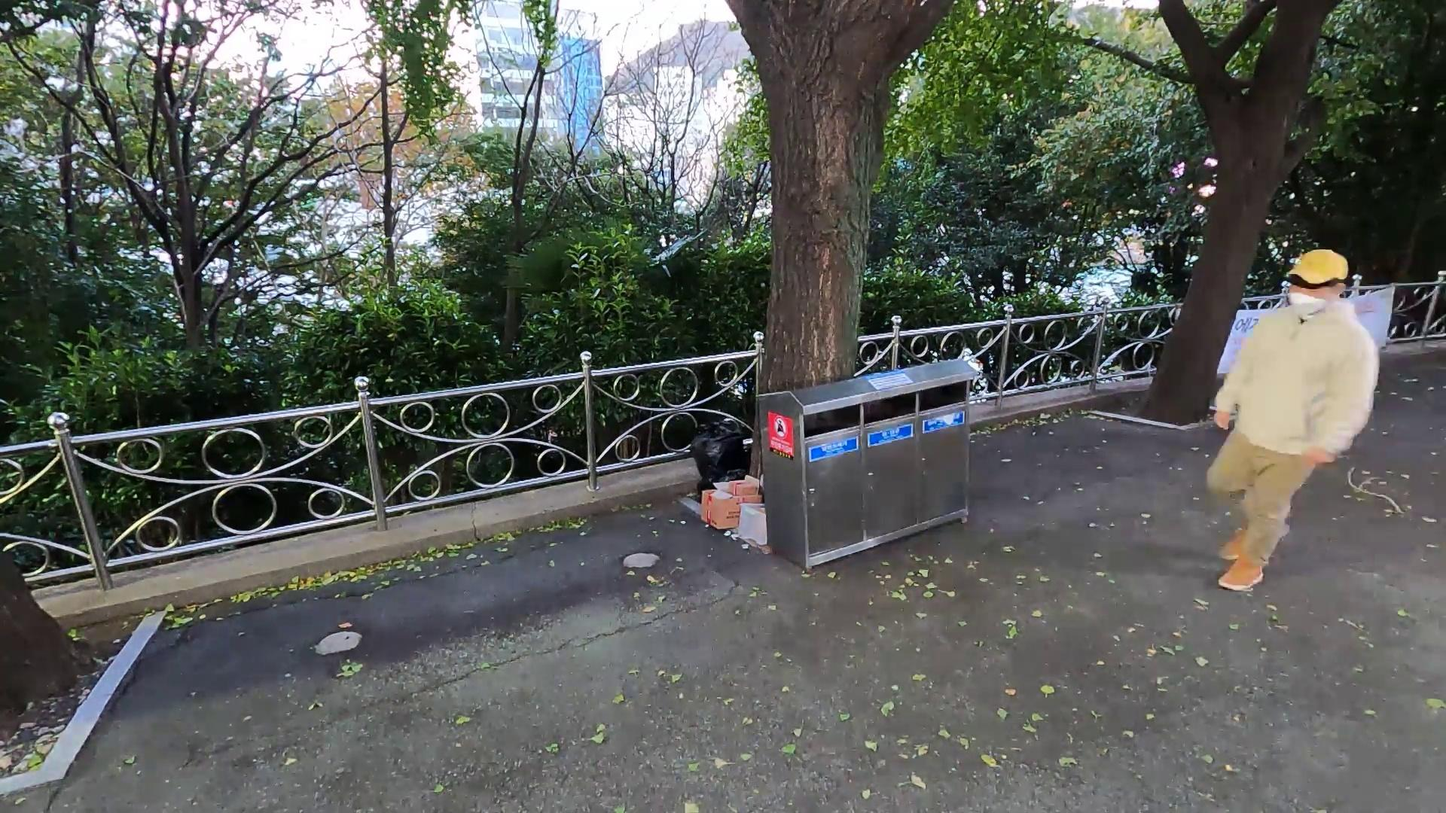person: (1198, 243, 1383, 602)
trash: (686, 419, 747, 510), (692, 487, 765, 533), (694, 464, 752, 501), (736, 497, 775, 542), (727, 475, 754, 495)
